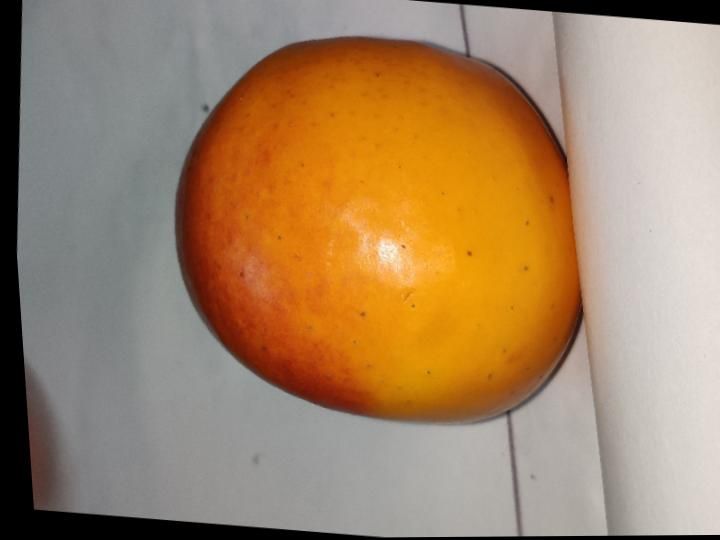apple: (175, 38, 582, 423)
